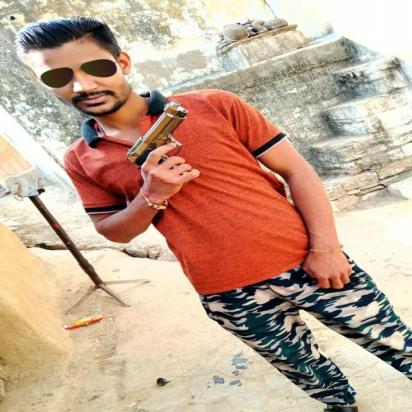Gun: (123, 100, 196, 184)
